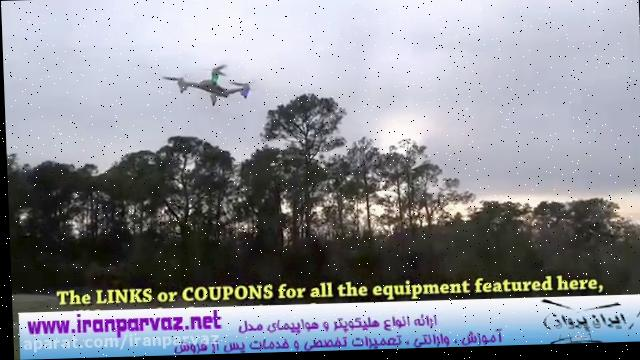drone: (156, 59, 257, 109)
